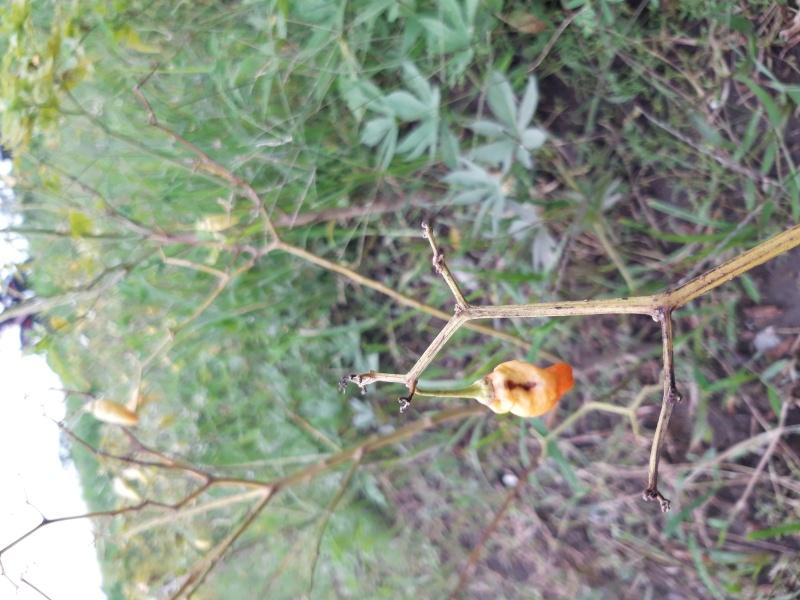antraknosa: (486, 361, 573, 418)
